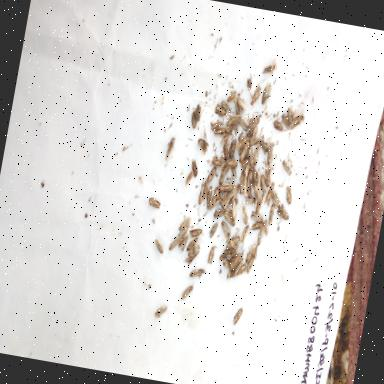pbw: (220, 203, 242, 228), (148, 236, 170, 260), (278, 156, 297, 182), (175, 214, 194, 240), (247, 242, 261, 276), (276, 198, 294, 224), (184, 240, 202, 266), (248, 79, 264, 108), (237, 136, 252, 166), (230, 300, 246, 328), (288, 110, 306, 134), (245, 160, 261, 187), (162, 134, 176, 164), (264, 181, 280, 207), (186, 154, 202, 180), (278, 108, 294, 134), (185, 231, 202, 255), (261, 164, 278, 188), (219, 138, 233, 167), (258, 172, 274, 197), (224, 230, 242, 252), (152, 300, 170, 322), (174, 226, 188, 254), (244, 237, 258, 265), (237, 222, 252, 248), (253, 168, 268, 194), (204, 241, 219, 267), (187, 264, 207, 283), (222, 156, 241, 176), (212, 100, 230, 121), (228, 249, 244, 272), (250, 142, 264, 168), (180, 230, 194, 256), (260, 82, 274, 108), (208, 184, 222, 210), (228, 180, 242, 206), (144, 194, 163, 213), (195, 134, 213, 154), (218, 218, 234, 240), (238, 202, 252, 227), (204, 164, 218, 189), (216, 92, 233, 112), (228, 198, 241, 224), (200, 180, 213, 206), (254, 224, 268, 248), (242, 70, 256, 94), (234, 113, 250, 134), (282, 183, 296, 207), (223, 85, 238, 107), (196, 176, 208, 203), (218, 126, 234, 146), (247, 112, 263, 132), (220, 254, 236, 274), (234, 133, 250, 153), (214, 180, 234, 196), (284, 103, 297, 127), (264, 140, 276, 166), (244, 144, 258, 166), (260, 218, 274, 240), (168, 234, 182, 256), (189, 222, 206, 240), (212, 206, 228, 225), (234, 93, 250, 112), (180, 282, 195, 302), (230, 96, 244, 117), (256, 137, 272, 155), (216, 163, 228, 187), (211, 152, 225, 172), (270, 189, 284, 209), (204, 182, 214, 210), (262, 59, 278, 76), (208, 115, 225, 131), (254, 192, 265, 216), (267, 201, 278, 225), (211, 124, 227, 140), (250, 208, 266, 224), (193, 100, 205, 121), (272, 116, 286, 134), (226, 138, 237, 160), (208, 220, 220, 240), (188, 108, 200, 128), (236, 260, 249, 278), (227, 114, 243, 128), (249, 124, 260, 144), (236, 168, 246, 190), (182, 170, 194, 188), (251, 219, 265, 233), (227, 164, 240, 179), (244, 182, 255, 199), (225, 119, 238, 133), (242, 192, 257, 204), (222, 248, 238, 258), (215, 192, 226, 206), (218, 251, 228, 262)
